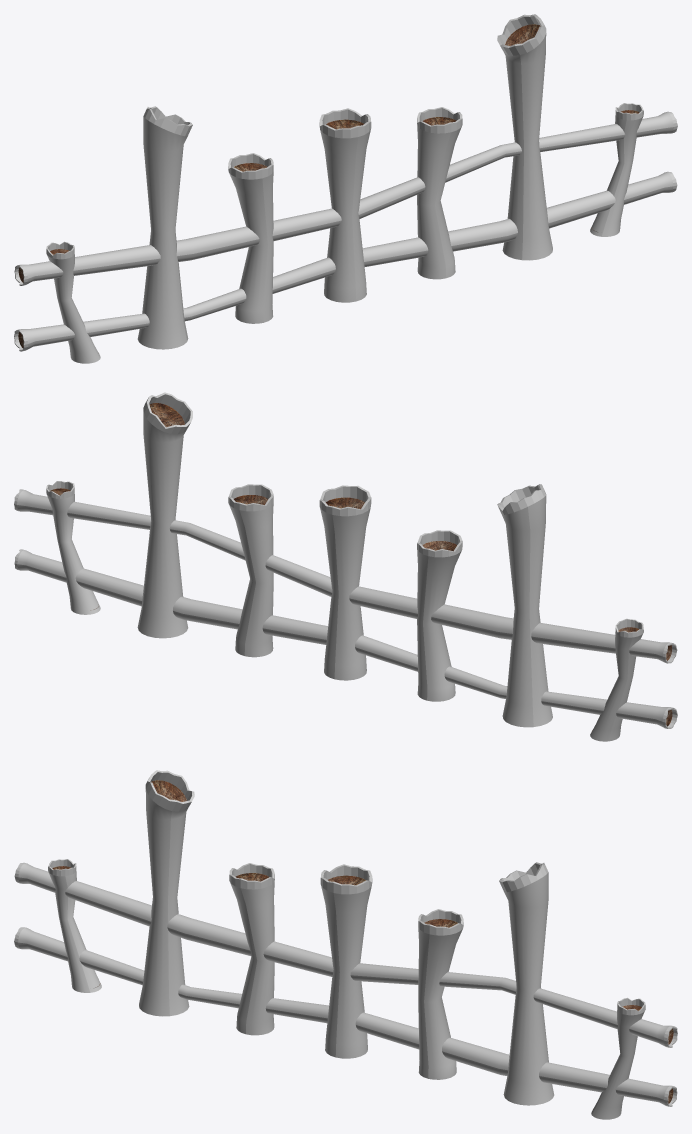
Rendered from Palisade.fbx.
3 renders of one model, top to bottom at view 1: azimuth 30°, elevation 25°; view 2: azimuth 150°, elevation 25°; view 3: azimuth 330°, elevation 25°, orthographic.
Parts seen in each view (by area): view 1: Palisade; view 2: Palisade; view 3: Palisade.
Boxes of the visible parts, box(x1,y1,x2,y2) form: Palisade: box(14, 14, 677, 363); Palisade: box(14, 392, 677, 741); Palisade: box(14, 770, 677, 1119).
Size of the model in its own units: 41.24 by 13.91 by 2.83.
